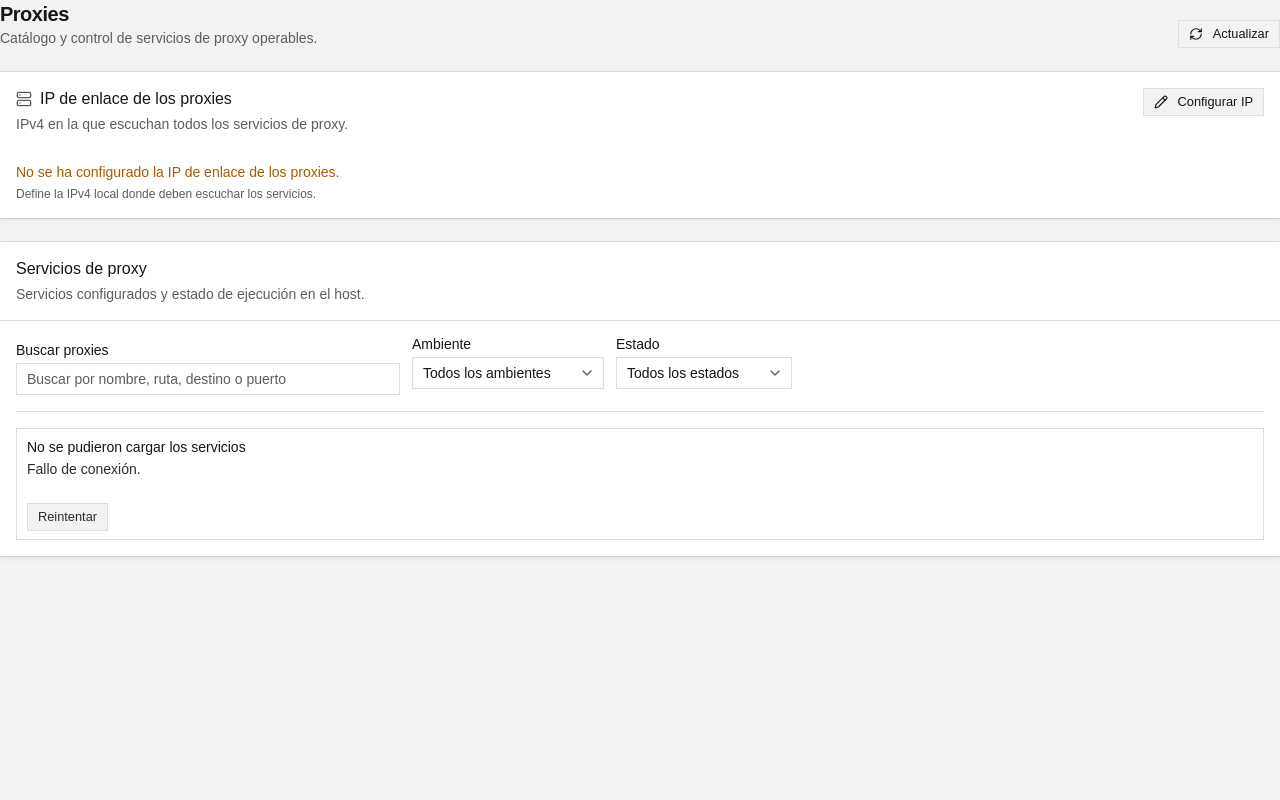
Test: ProxiesPage › muestra error del servidor y permite reintentar
Expected: the text "No se pudieron cargar los servicios" is shown, [27, 439, 246, 455]
Expected: the text "Fallo de conexión." is shown, [27, 461, 141, 477]
Click the button "Reintentar".
click(68, 517)  # box [27, 503, 108, 531]
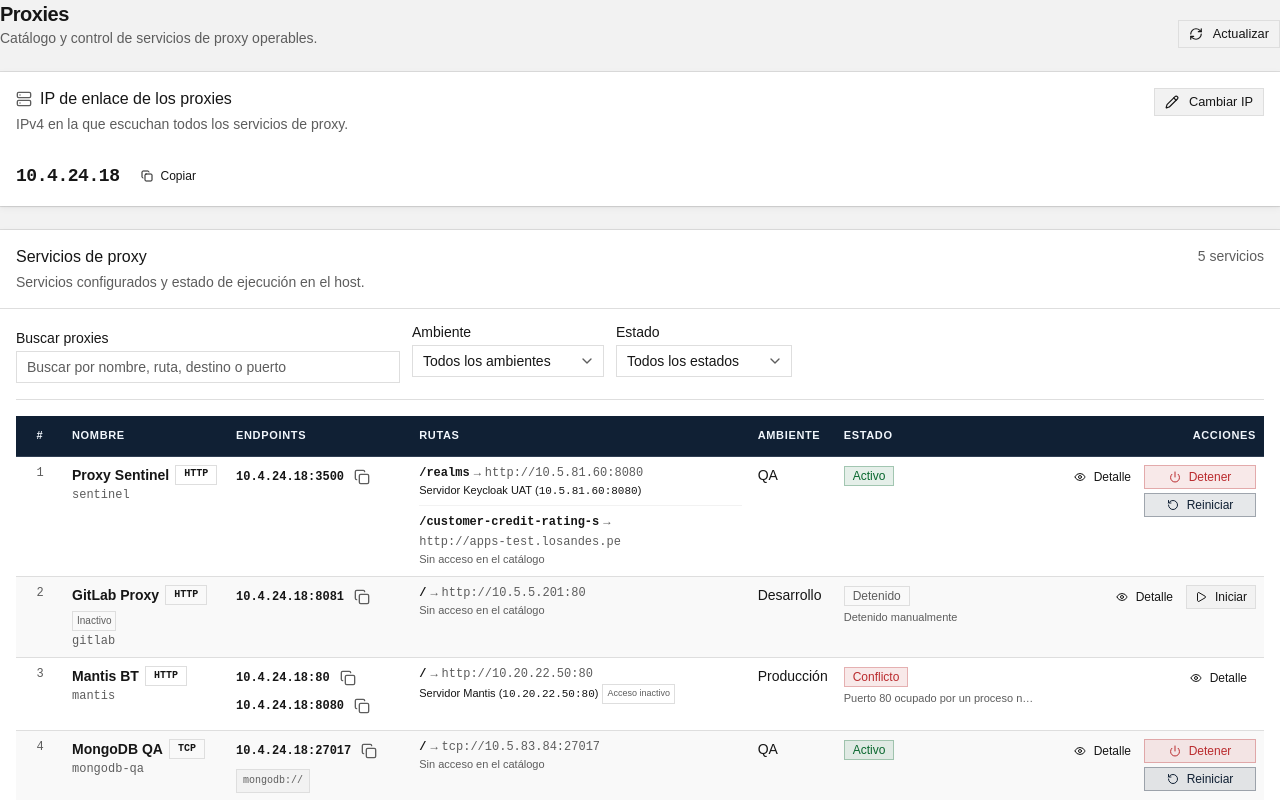
Now the text "Proxy Sentinel" is shown, box [72, 464, 169, 484]
